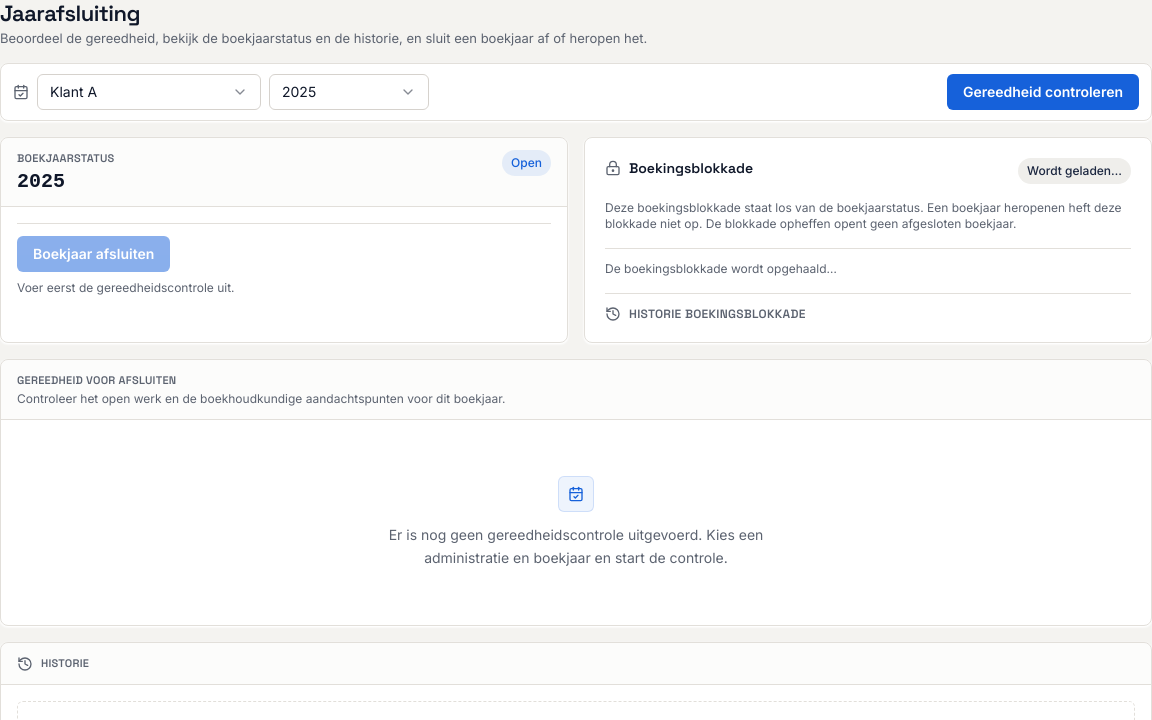
Idempotente uitkomsten verdubbelen niets › 12b. created = false bij herafsluiten is een mededeling, geen fout
Click the button with test id "jaar-uitvoeren" at point(1043, 92), box [947,74,1139,110]
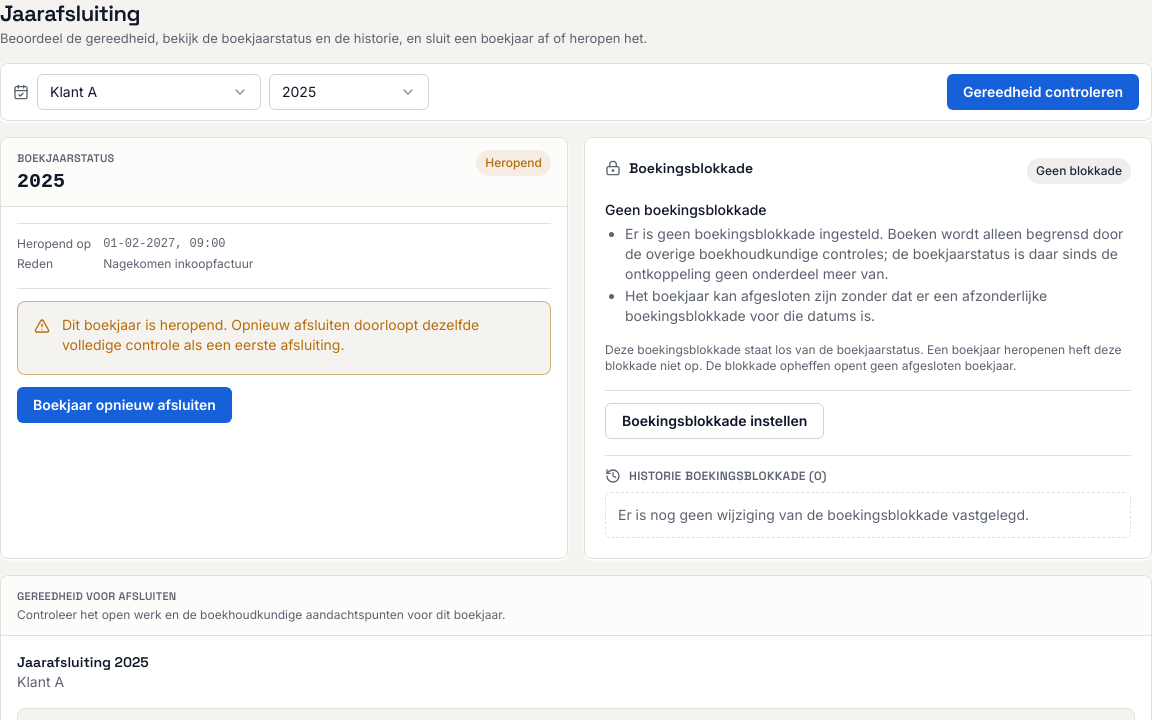
Click the button with test id "jaar-afsluiten" at point(124, 405), box [17,387,232,423]
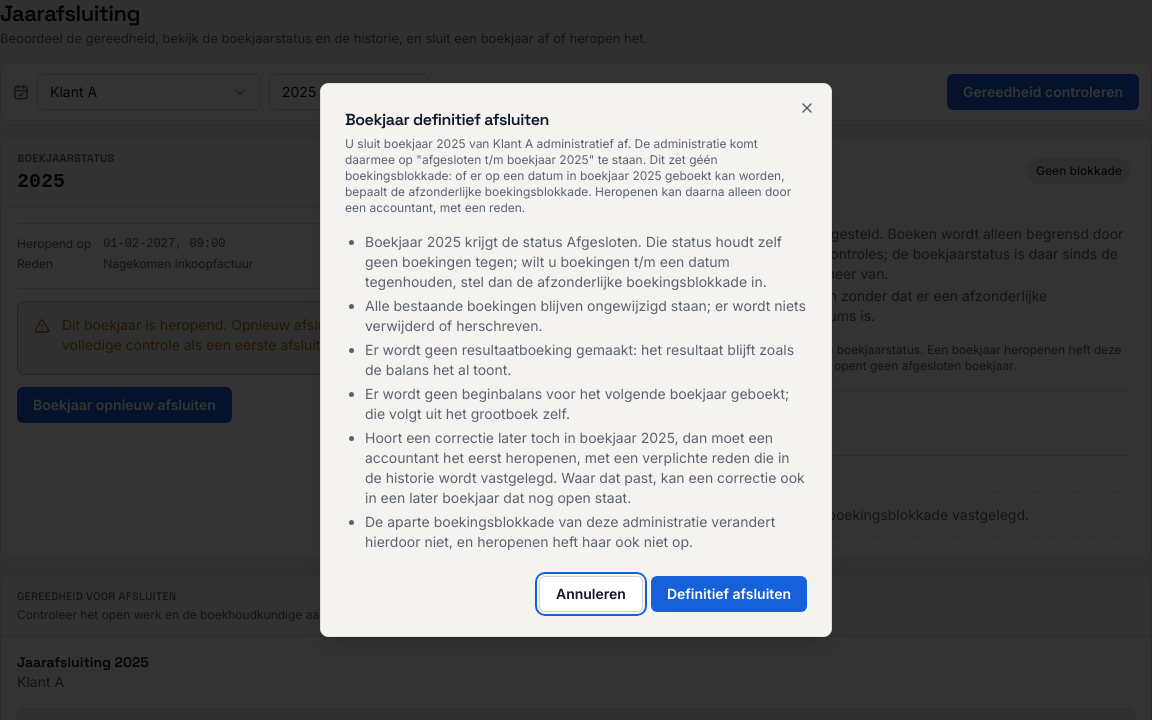
Click the button with test id "jaar-bevestig-knop" at point(729, 594), box [651,576,807,612]
(page scrolled)
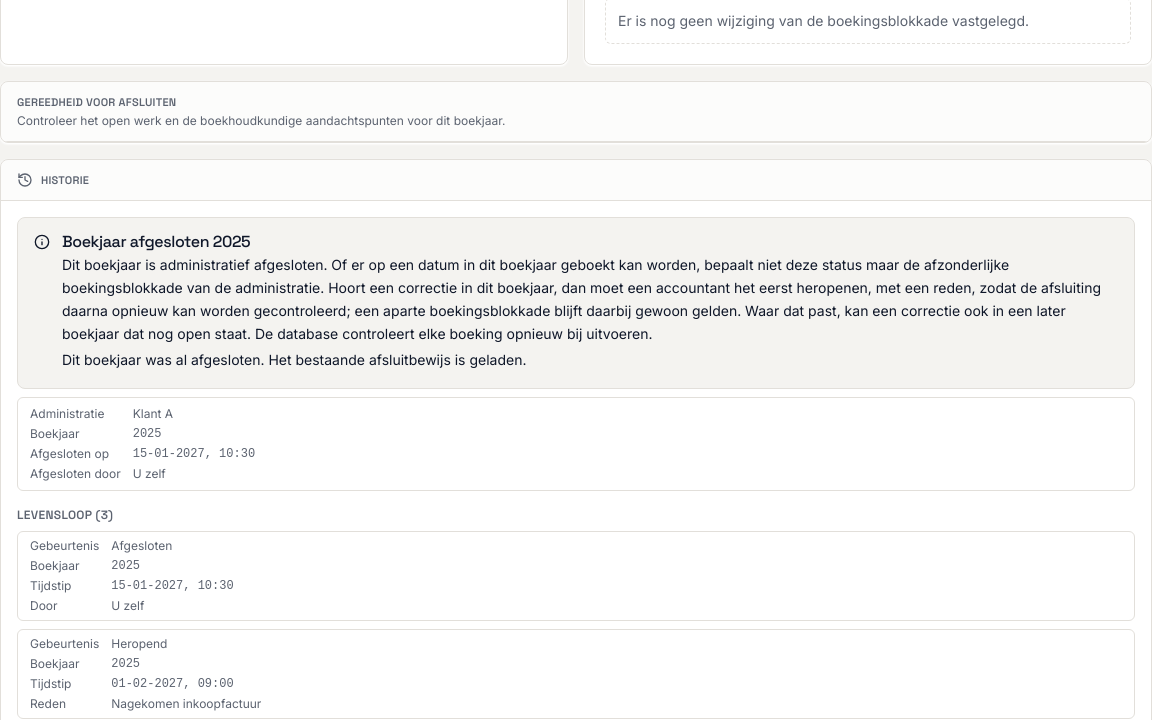
Now the text with test id "jaar-al-afgesloten" is shown, box [62,351,526,368]
Now the number of elements with test id "jaar-afsluitbewijs" is 1, box [17,217,1135,491]
Now the number of list items with test id "jaar-gebeurtenis" is 3
